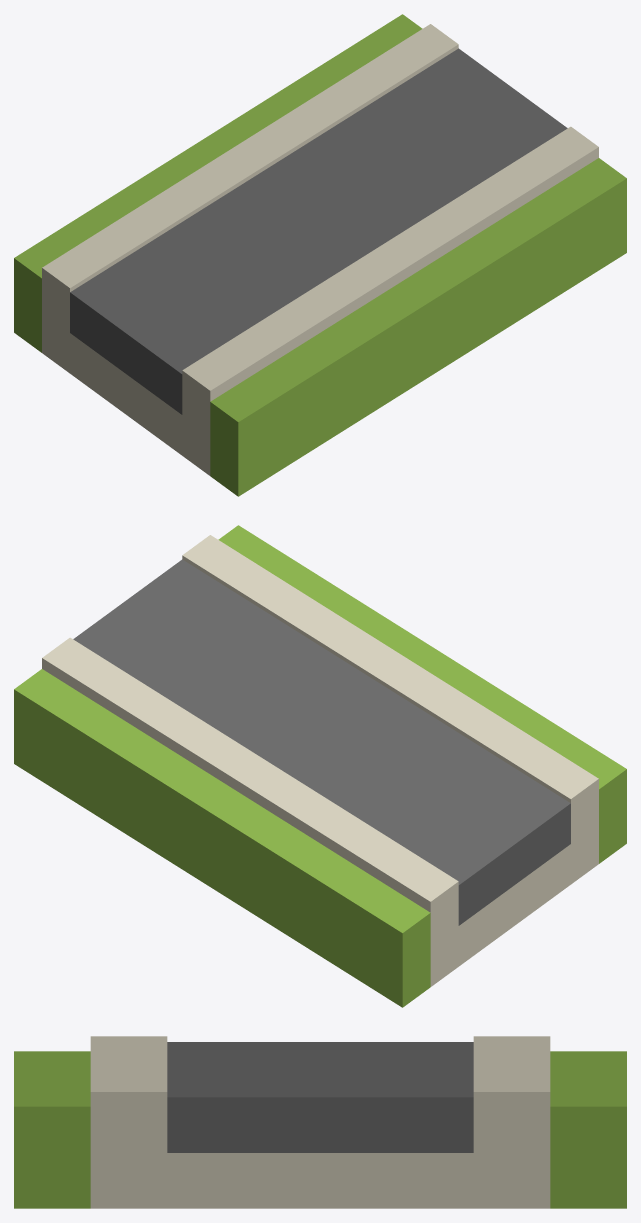
File: tile041.fbx
The picture shows the model from 3 angles, top to bottom: view 1: azimuth 30°, elevation 25°; view 2: azimuth 150°, elevation 25°; view 3: azimuth 270°, elevation 25°; orthographic projection. The views are drawn at different scales.
Visible parts, largest first — view 1: tile041; view 2: tile041; view 3: tile041.
Part boxes in pixels (<box>): tile041: <box>14,14,626,496</box>; tile041: <box>14,525,626,1007</box>; tile041: <box>14,1036,626,1208</box>.
Bounding box in the file's own units: 10 × 5.77 × 10.
